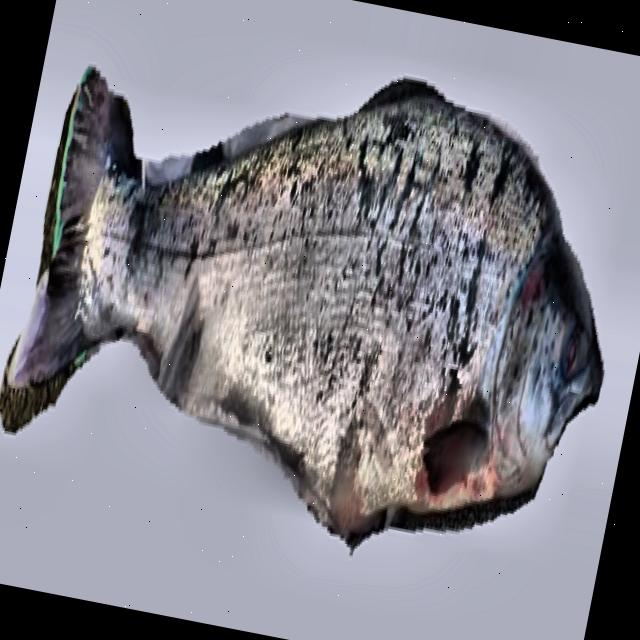mild_red: (62, 102, 538, 533)
